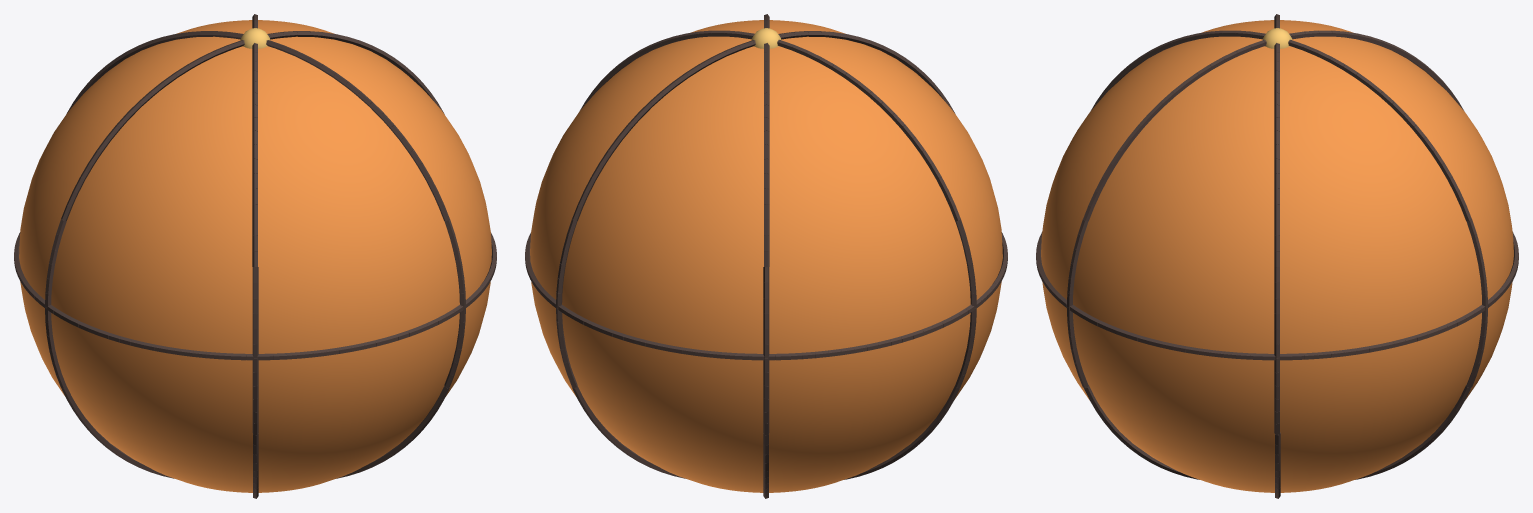
The model's file is basketball.gltf.
3 renders of one model, left to right at view 1: azimuth 30°, elevation 25°; view 2: azimuth 150°, elevation 25°; view 3: azimuth 270°, elevation 25°, orthographic.
Parts seen in each view (by area): view 1: RealScaleBasketball; view 2: RealScaleBasketball; view 3: RealScaleBasketball.
Boxes of the visible parts, x1=… form: RealScaleBasketball: x1=14, y1=14, x2=496, y2=498; RealScaleBasketball: x1=525, y1=14, x2=1007, y2=498; RealScaleBasketball: x1=1036, y1=14, x2=1518, y2=498.
Size of the model in its own units: 0.2459 by 0.25 by 0.2448.
